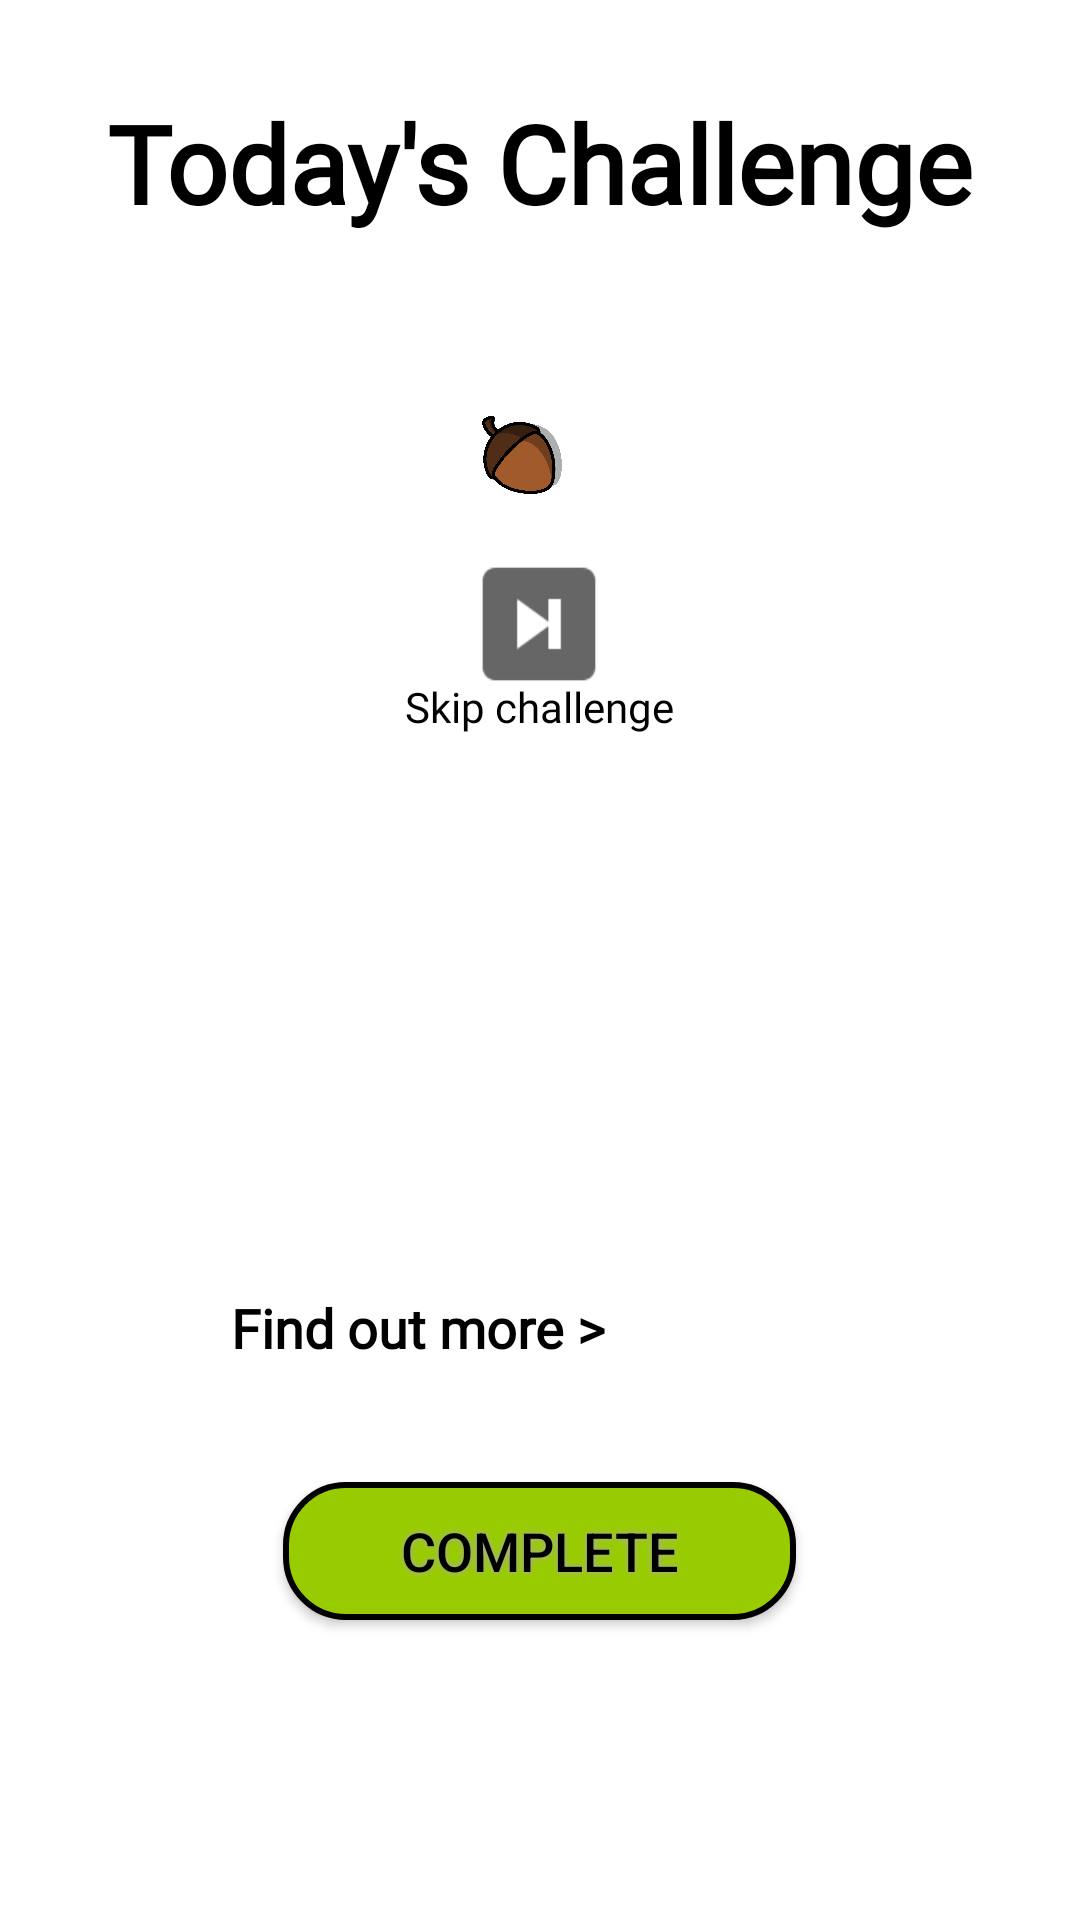

Icon click points for this 1080 x 1920 phone screenshot, format (x,y):
acorn: (522,455)
